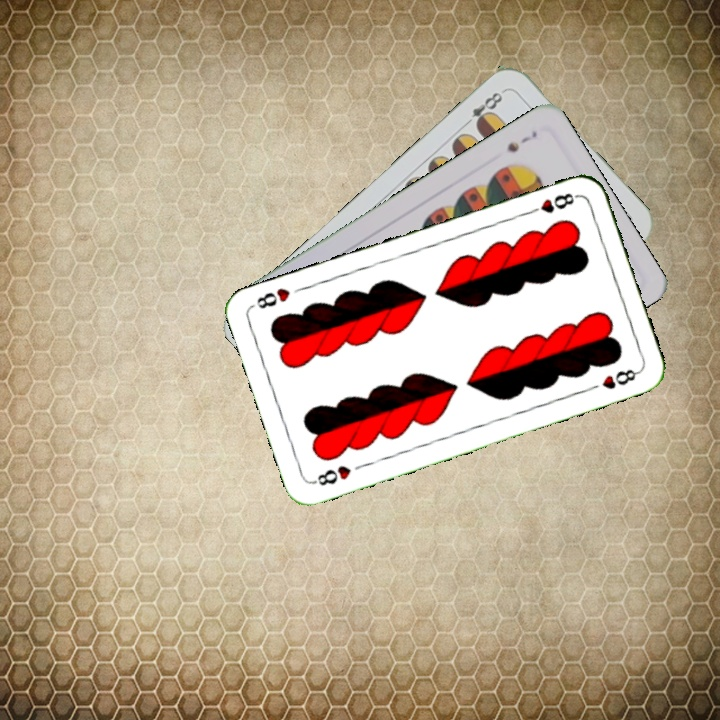E8: (459, 88, 505, 132)
H8: (523, 189, 581, 217), (309, 461, 354, 489)
S7: (503, 127, 540, 155)
